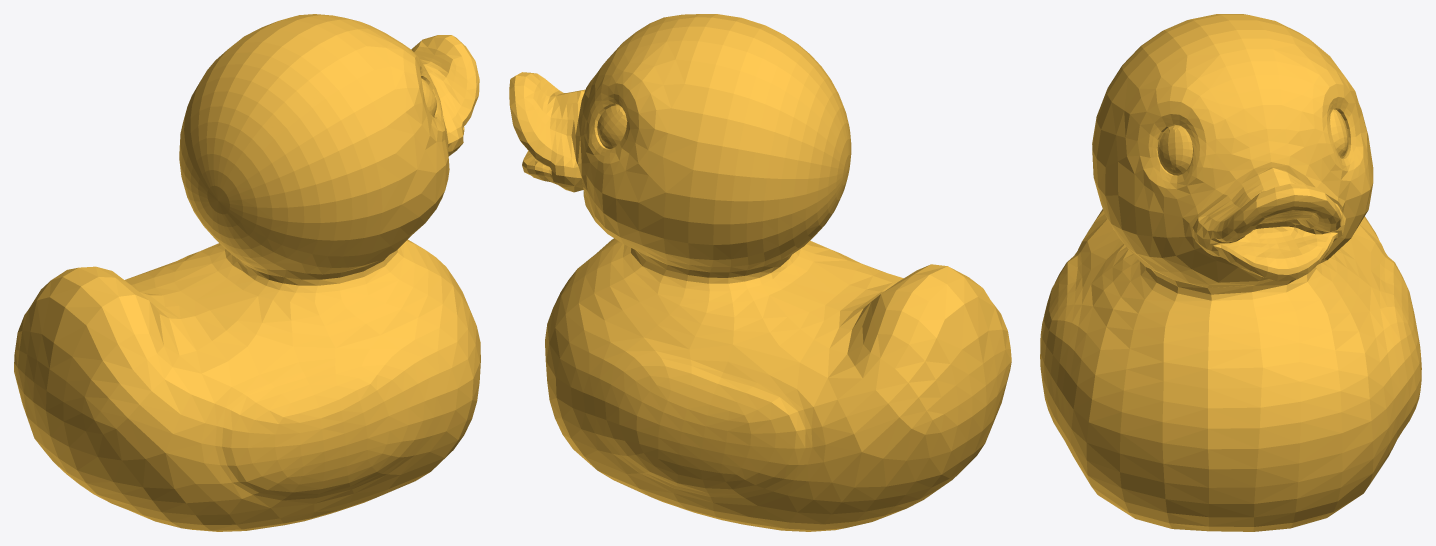
Rendered from duck.dae.
The picture shows the model from 3 angles, left to right: view 1: azimuth 30°, elevation 25°; view 2: azimuth 150°, elevation 25°; view 3: azimuth 270°, elevation 25°; orthographic projection. The views are drawn at different scales.
Parts seen in each view (by area): view 1: node_shape0_001; view 2: node_shape0_001; view 3: node_shape0_001.
Part boxes in pixels (x1,y1,x2,y2): node_shape0_001: (14, 14, 480, 531); node_shape0_001: (509, 14, 1011, 531); node_shape0_001: (1040, 14, 1421, 531).
Size of the model in its own units: 0.3148 by 0.2193 by 0.2931.
Materials: 1 (1 with a texture image).
